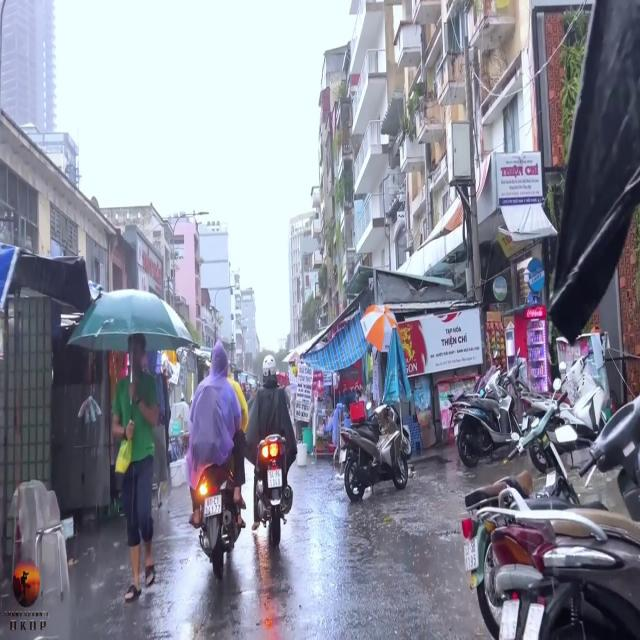bien_trang: (266, 465, 283, 491), (202, 495, 221, 518)
